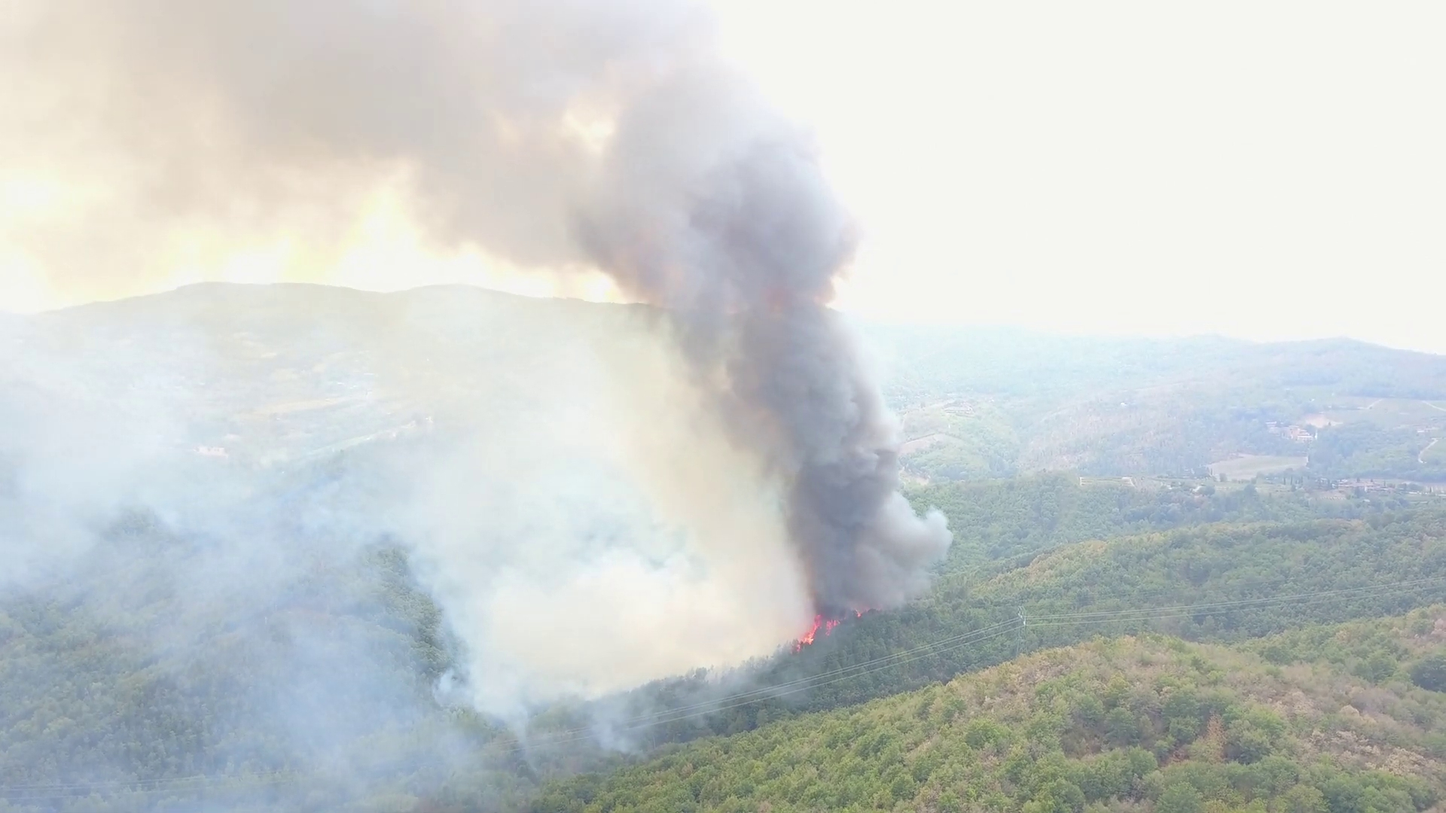forest_fire: (795, 614, 841, 651)
